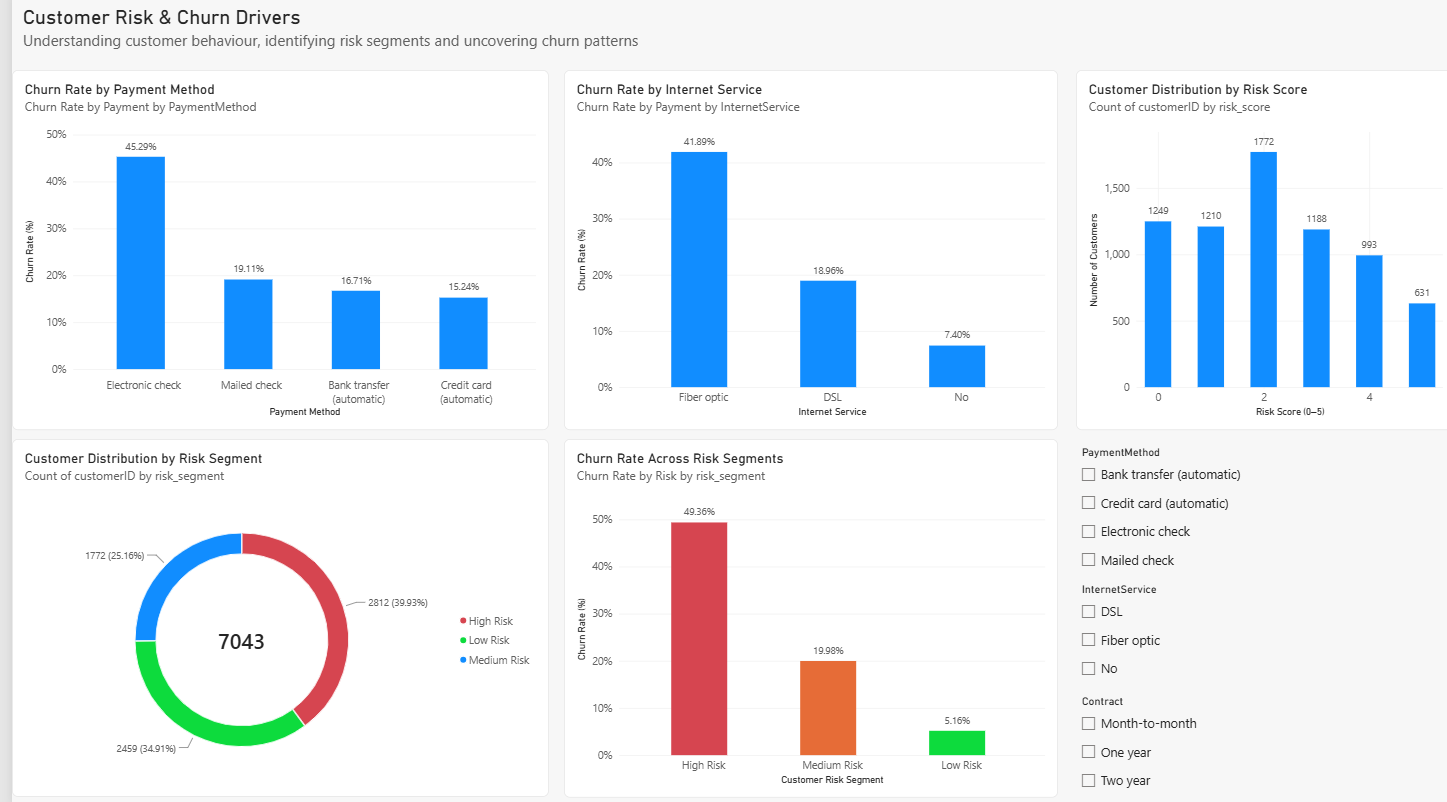

The page's visual inventory and layout, read from the dashboard file:
{"tool":"powerbi","page":{"name":"Churn Drivers & Risk","canvas":[1920,1080],"ordinal":1},"visuals":[{"type":"clusteredColumnChart","title":"Churn Rate by Payment Method","fields":{"Category":["customers_for_powerbi.PaymentMethod"],"Y":["customers_for_powerbi.Churn Rate by Payment"]},"box":[0,102.4,714.2,478.8],"z":0},{"type":"clusteredColumnChart","title":"Churn Rate by Internet Service","fields":{"Category":["customers_for_powerbi.InternetService"],"Y":["customers_for_powerbi.Churn Rate by Payment"]},"box":[734.2,102.4,657,478.8],"z":1000},{"type":"donutChart","title":"Customer Distribution by Risk Segment","fields":{"Category":["customer_risk_segments.risk_segment"],"Y":["CountNonNull(customer_risk_segments.customerID)"]},"box":[0,593.2,714.2,476.2],"z":2000},{"type":"clusteredColumnChart","title":"Churn Rate Across Risk Segments","fields":{"Category":["customer_risk_segments.risk_segment"],"Y":["customer_risk_segments.Churn Rate by Risk"]},"box":[734.2,593.2,657,477.5],"z":3000},{"type":"clusteredColumnChart","title":"Customer Distribution by Risk Score","fields":{"Category":["customer_risk_segments.risk_score"],"Y":["CountNonNull(customer_risk_segments.customerID)"]},"box":[1415.2,102.4,505.4,478.8],"z":4000},{"type":"slicer","title":"Contract Type","fields":{"Values":["customers_for_powerbi.Contract"]},"box":[1415.2,933.7,333.8,146.3],"z":4001},{"type":"slicer","fields":{"Values":["customers_for_powerbi.InternetService"]},"box":[1415.2,784.7,252.3,149],"z":4002},{"type":"slicer","fields":{"Values":["customers_for_powerbi.PaymentMethod"]},"box":[1415.2,602.5,237,172.7],"z":4003},{"type":"textbox","title":"Customer Risk & Churn Drivers","box":[14.6,16,966.9,172.9],"z":4004}]}

Visuals, with their boxes in screenshot pixels (x1, y1, x2, y2), scaled from the page's 1920x1080 canvas onto the 1447x802 screenshot:
"Churn Rate by Payment Method" clusteredColumnChart: (left=0, top=76, right=538, bottom=432)
"Churn Rate by Internet Service" clusteredColumnChart: (left=553, top=76, right=1048, bottom=432)
"Customer Distribution by Risk Segment" donutChart: (left=0, top=441, right=538, bottom=794)
"Churn Rate Across Risk Segments" clusteredColumnChart: (left=553, top=441, right=1048, bottom=795)
"Customer Distribution by Risk Score" clusteredColumnChart: (left=1067, top=76, right=1446, bottom=432)
"Contract Type" slicer: (left=1067, top=693, right=1318, bottom=801)
slicer - customers_for_powerbi.InternetService: (left=1067, top=583, right=1257, bottom=693)
slicer - customers_for_powerbi.PaymentMethod: (left=1067, top=447, right=1245, bottom=576)
"Customer Risk & Churn Drivers" textbox: (left=11, top=12, right=740, bottom=140)
